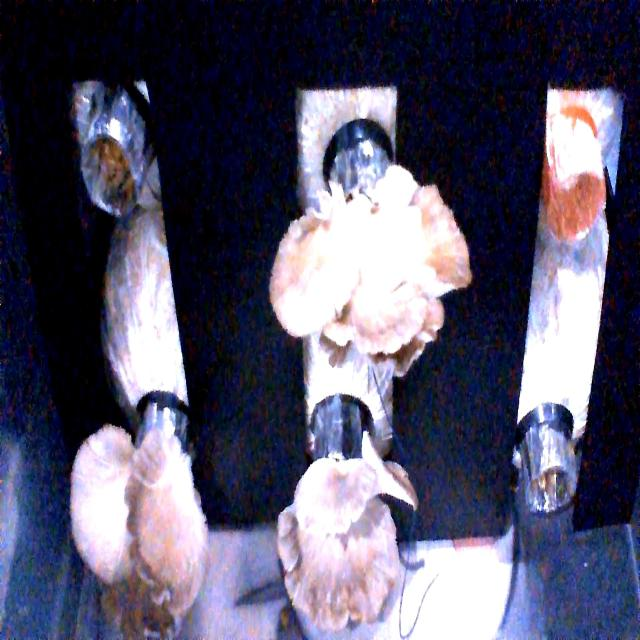big: (260, 188, 461, 357), (68, 428, 213, 600), (290, 470, 397, 610)
nfound: (82, 136, 140, 215), (543, 161, 598, 242), (522, 460, 580, 519)
